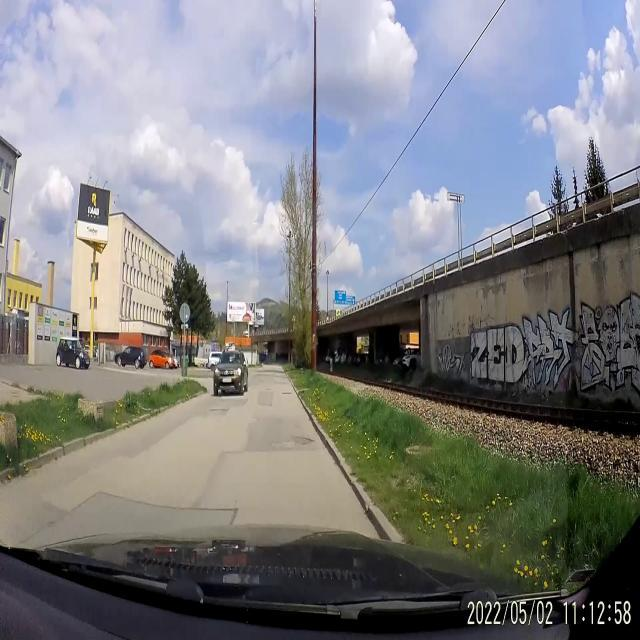Manhole: (280, 390, 293, 398)
Pothole: (293, 429, 318, 452), (208, 403, 230, 418)
